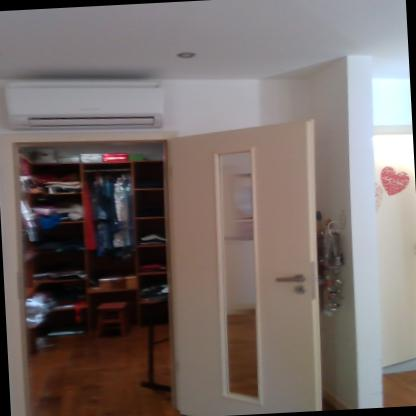open: (0, 111, 331, 416)
